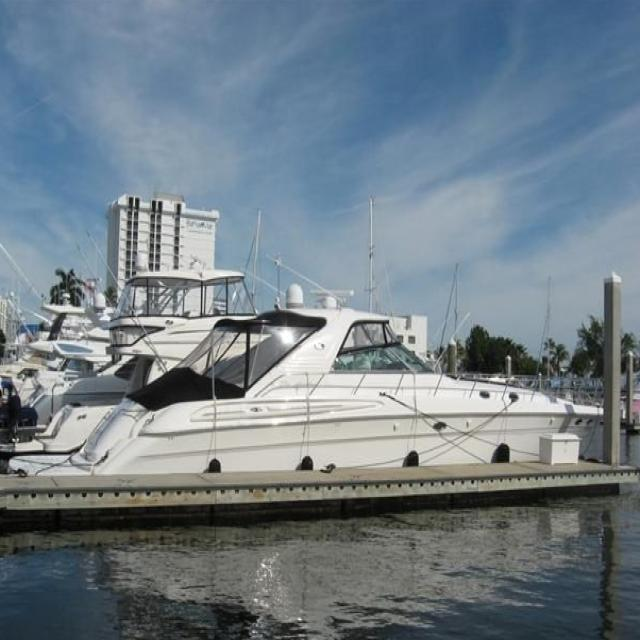houseboat: (34, 269, 602, 490)
